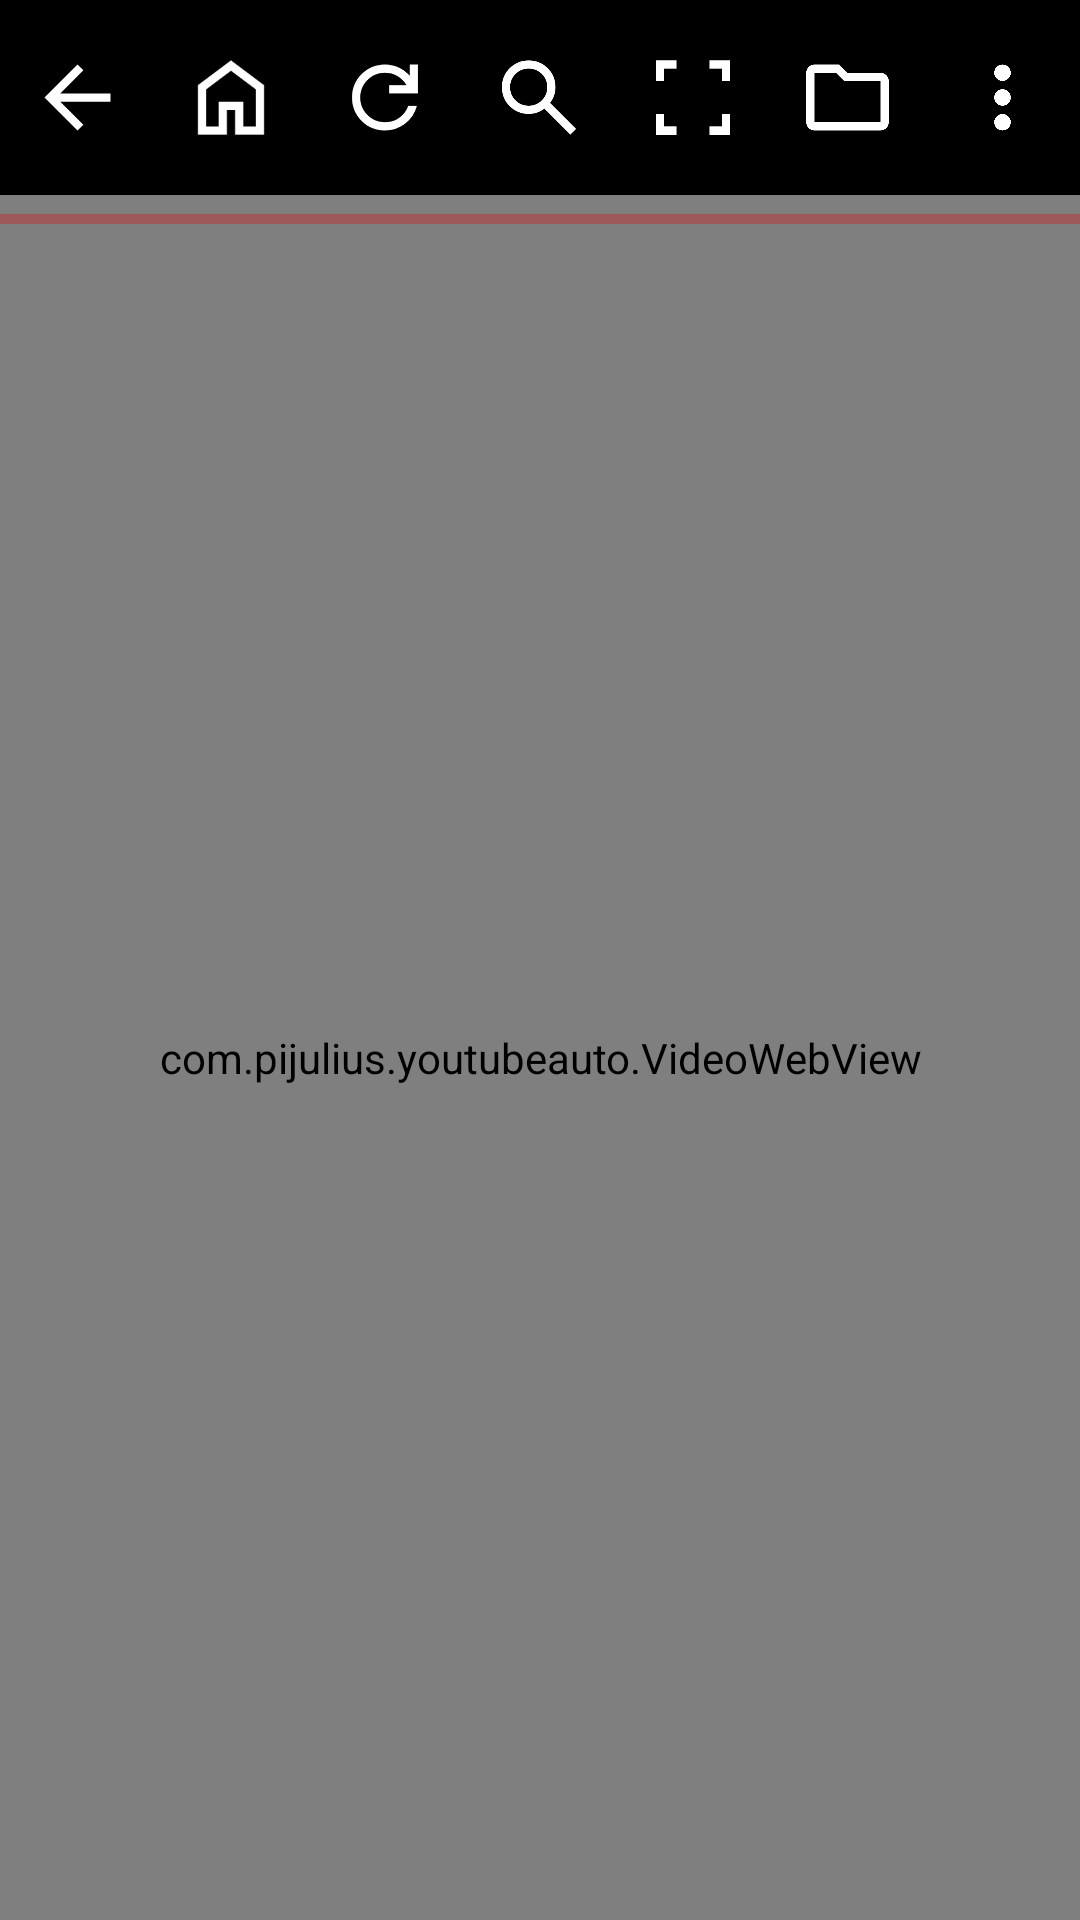

Locate icon controls on the screen. Image size 1080 × 1920, boxes as box(x1, y1, x2, y2).
back: box(44, 64, 111, 131)
folder: box(806, 64, 889, 131)
fullscreen: box(656, 60, 730, 135)
home: box(197, 60, 265, 135)
more: box(994, 64, 1011, 131)
refresh: box(352, 64, 418, 131)
search: box(502, 60, 576, 135)
